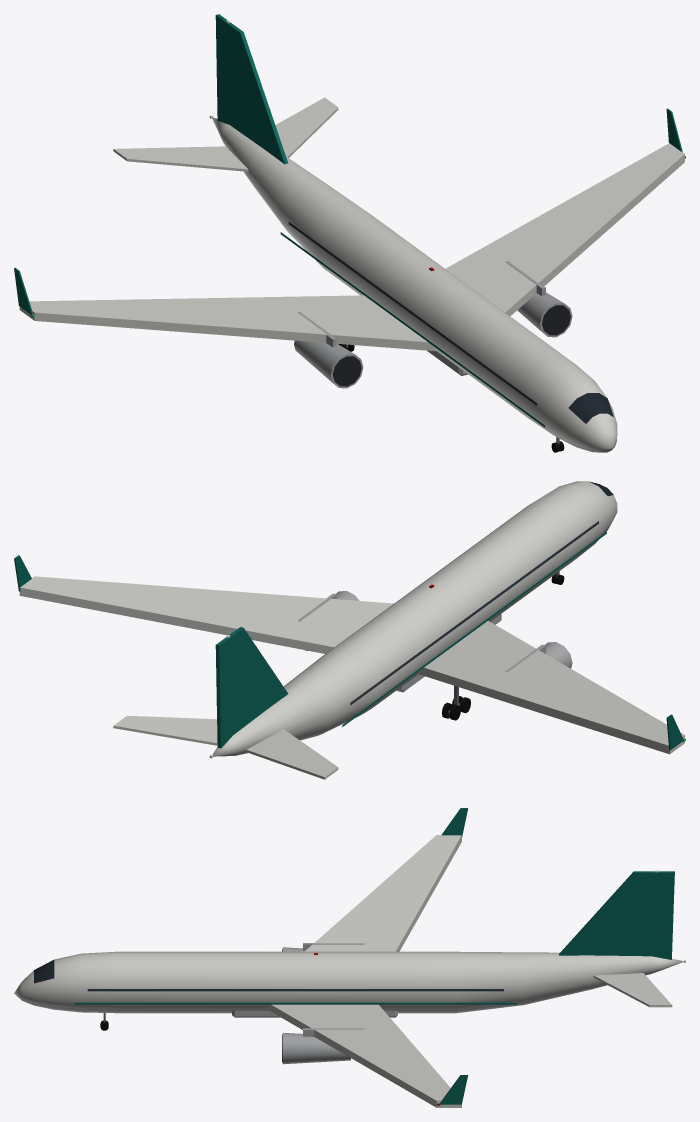
Rendered from avion_gros_porteur.glb.
3 renders of one model, top to bottom at view 1: azimuth 30°, elevation 25°; view 2: azimuth 150°, elevation 25°; view 3: azimuth 270°, elevation 25°, orthographic. The views are drawn at different scales.
Visible parts, largest first — view 1: avion_gros_porteur; view 2: avion_gros_porteur; view 3: avion_gros_porteur.
Boxes of the visible parts, x1,y1,x2,y2 form: avion_gros_porteur: (14,14,685,452); avion_gros_porteur: (14,481,685,779); avion_gros_porteur: (14,808,685,1107).
Bounding box in the file's own units: 60.02 × 16.57 × 63.78.
